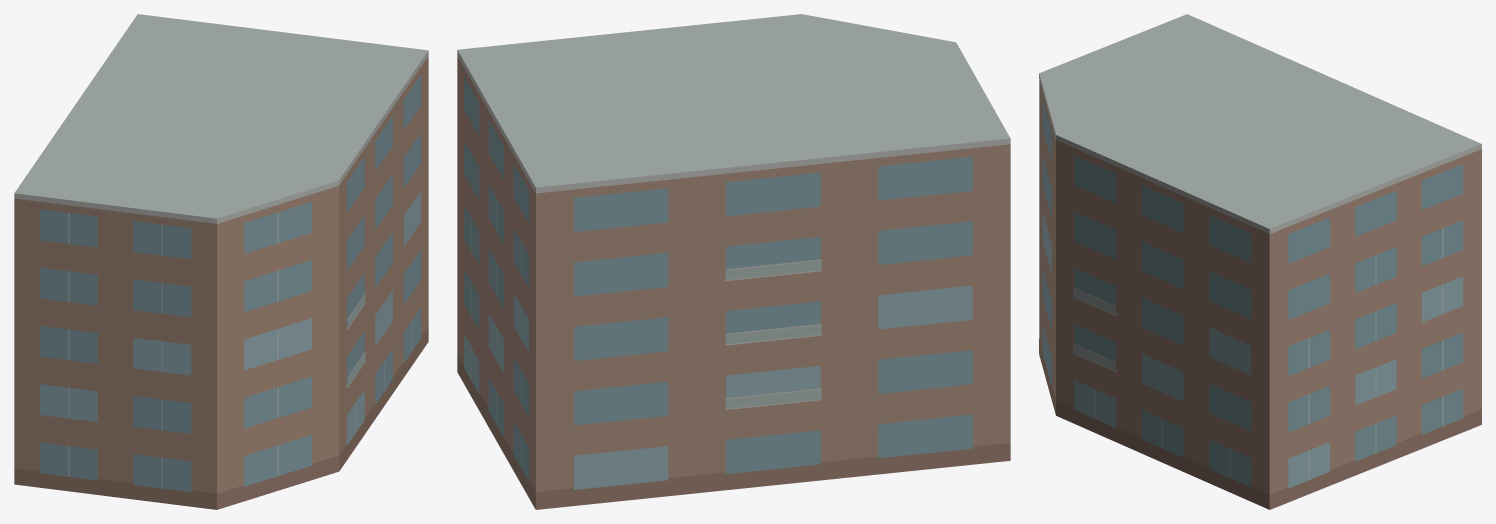
File: survey-upis-32717219.glb
The picture shows the model from 3 angles, left to right: view 1: azimuth 30°, elevation 25°; view 2: azimuth 150°, elevation 25°; view 3: azimuth 270°, elevation 25°; orthographic projection. The views are drawn at different scales.
Parts seen in each view (by area): view 1: survey-upis-32717219.tmp; view 2: survey-upis-32717219.tmp; view 3: survey-upis-32717219.tmp.
Part boxes in pixels (x1,y1,x2,y2): survey-upis-32717219.tmp: (14, 14, 428, 509); survey-upis-32717219.tmp: (457, 14, 1010, 509); survey-upis-32717219.tmp: (1039, 14, 1481, 509).
Size of the model in its own units: 22.19 by 13.5 by 19.3.
